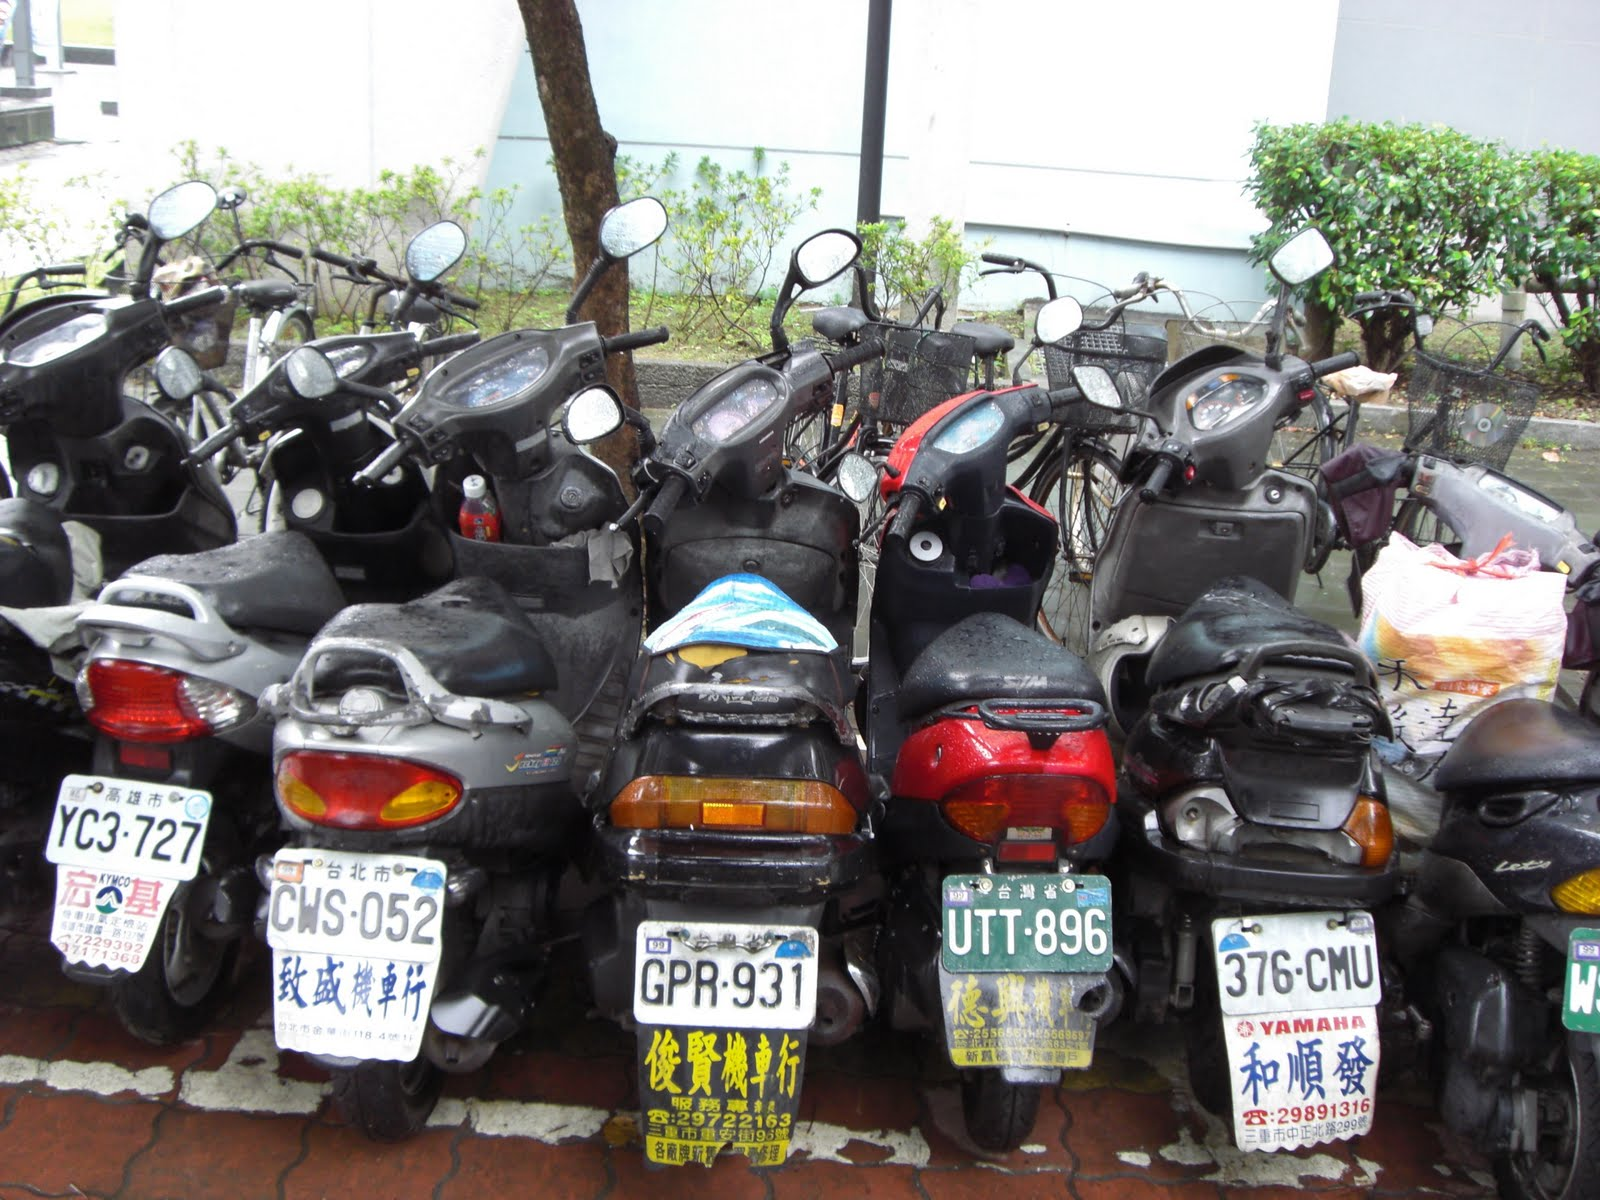number_plate: (252, 838, 453, 965), (628, 915, 825, 1031), (937, 866, 1119, 985), (38, 766, 212, 888), (1207, 911, 1390, 1016)
